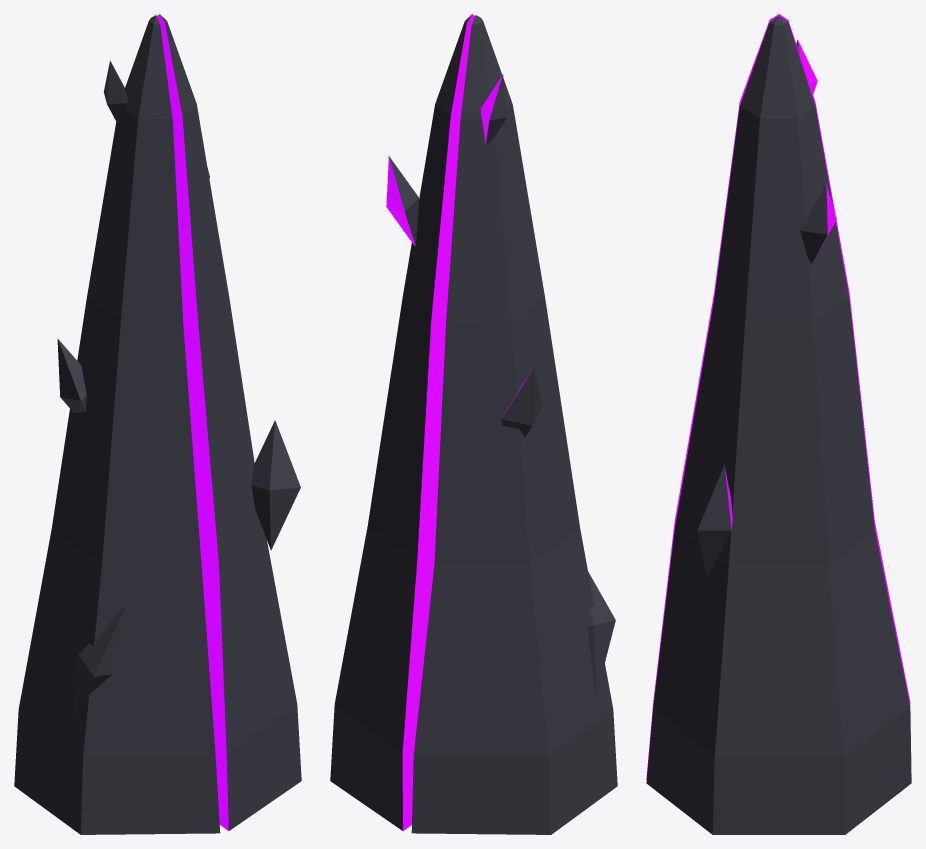
File: ENV_PROP_03_CorruptedMonolith.glb
3 renders of one model, left to right at view 1: azimuth 30°, elevation 25°; view 2: azimuth 150°, elevation 25°; view 3: azimuth 270°, elevation 25°, orthographic.
Visible parts, largest first — view 1: SM_ENV_PROP_03_CorruptedMonolith; view 2: SM_ENV_PROP_03_CorruptedMonolith; view 3: SM_ENV_PROP_03_CorruptedMonolith.
Part boxes in pixels (bbox=[...]): SM_ENV_PROP_03_CorruptedMonolith: bbox=[14, 14, 301, 834]; SM_ENV_PROP_03_CorruptedMonolith: bbox=[330, 14, 617, 834]; SM_ENV_PROP_03_CorruptedMonolith: bbox=[646, 14, 911, 834].
Bounding box in the file's own units: 1.8 × 6 × 1.88.
